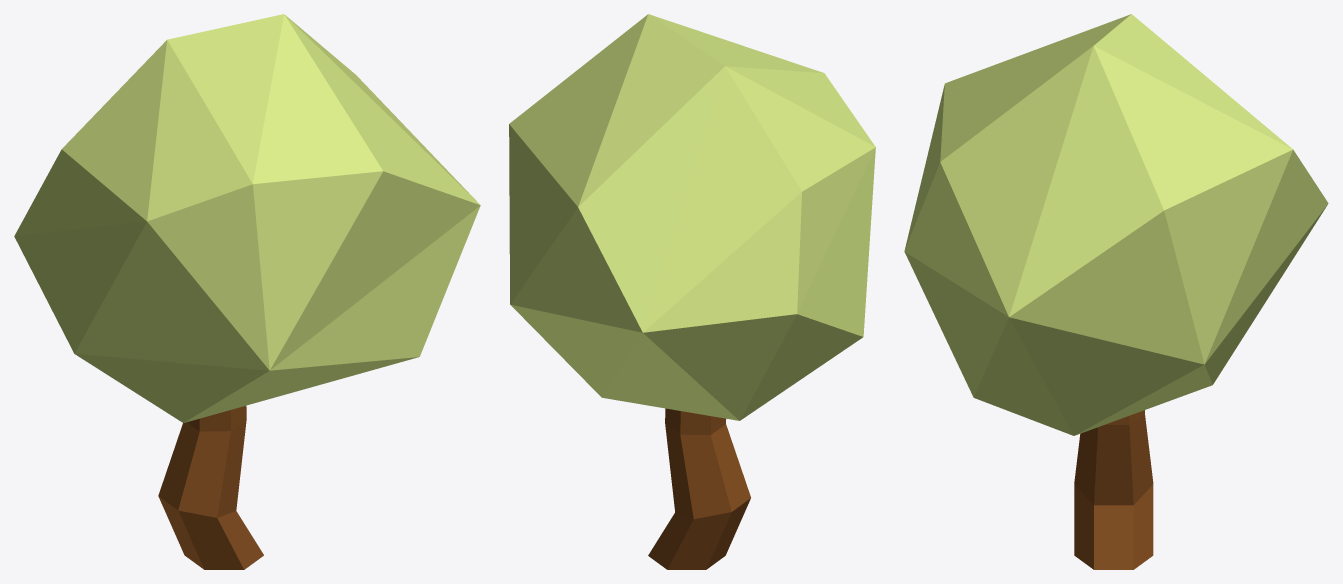
The model's file is bush1.glb.
3 renders of one model, left to right at view 1: azimuth 30°, elevation 25°; view 2: azimuth 150°, elevation 25°; view 3: azimuth 270°, elevation 25°, orthographic. The views are drawn at different scales.
Visible parts, largest first — view 1: Bush1; view 2: Bush1; view 3: Bush1.
Part boxes in pixels (<box>): Bush1: <box>14,14,480,569</box>; Bush1: <box>509,14,875,569</box>; Bush1: <box>904,14,1328,569</box>.
Size of the model in its own units: 1.07 by 1.49 by 1.07.
